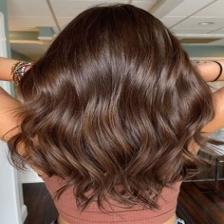brown: (8, 4, 215, 210)
